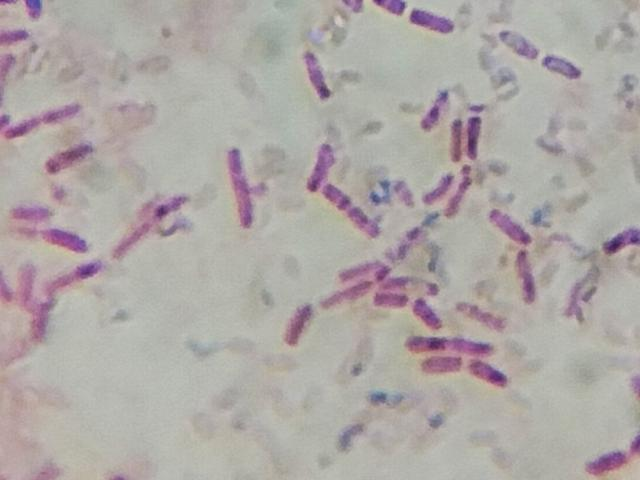E. coli: (111, 190, 201, 264), (222, 142, 261, 242), (1, 95, 97, 135), (325, 178, 377, 238), (301, 43, 342, 104), (46, 254, 107, 293), (302, 140, 341, 193), (408, 330, 492, 354), (495, 25, 538, 66), (411, 2, 457, 40), (373, 270, 442, 295), (505, 250, 536, 305), (45, 139, 96, 171), (485, 207, 529, 243), (323, 279, 374, 309), (42, 226, 94, 254), (602, 223, 640, 261), (286, 297, 313, 350), (462, 110, 486, 163), (585, 445, 626, 475), (545, 50, 582, 83), (448, 176, 476, 218), (12, 256, 36, 304), (422, 85, 448, 129), (33, 302, 56, 351), (413, 296, 447, 327), (13, 199, 55, 224), (0, 22, 36, 51), (339, 255, 386, 277), (413, 356, 462, 377), (468, 356, 503, 385), (17, 0, 59, 23), (422, 170, 449, 203), (371, 0, 405, 22), (451, 115, 465, 166), (372, 290, 402, 310)
